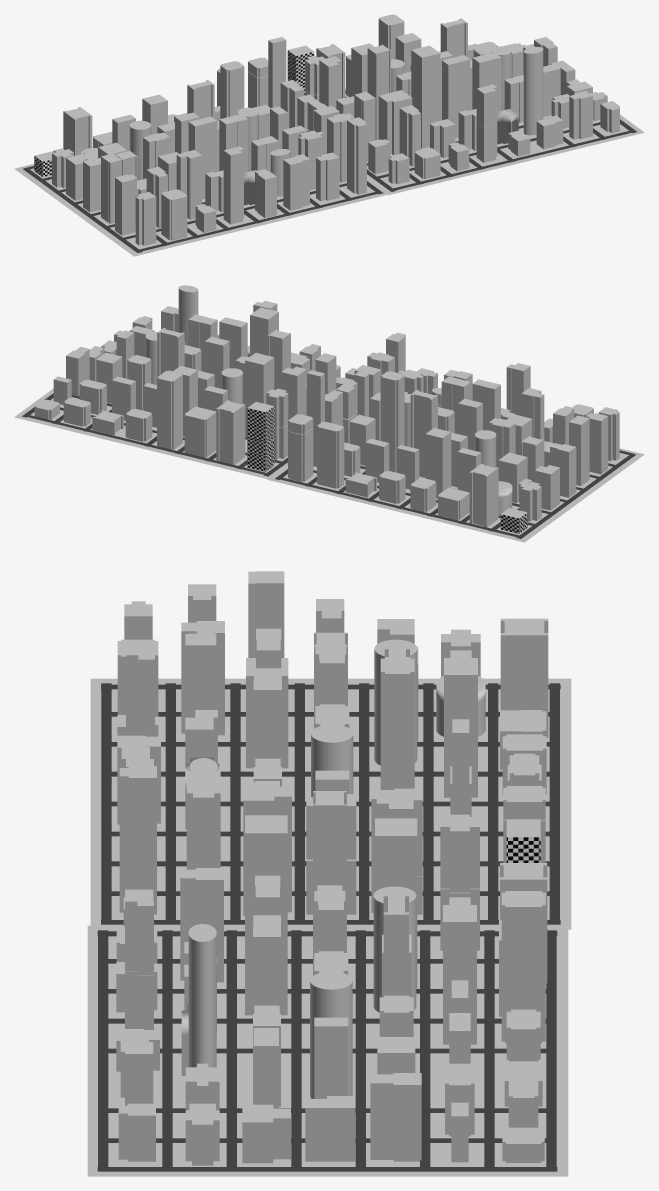
File: city.fbx
The picture shows the model from 3 angles, top to bottom: view 1: azimuth 30°, elevation 25°; view 2: azimuth 150°, elevation 25°; view 3: azimuth 270°, elevation 25°; orthographic projection. The views are drawn at different scales.
Visible parts, largest first — view 1: Plane.020, Plane.006, Plane.008, Plane.004, building_006.003, building_001.004, building_006, building_009.006, building_009.002, building_009.005, building_003.008, building_007.004 (+83 smaller); view 2: Plane.020, Plane.006, Plane.008, building_007, building_004, Plane.004, building_009.006, building_026.002, building_007.003, building_005.001, building_001.004, building_006.003 (+88 smaller); view 3: Plane.006, Plane.004, Plane.020, Plane.008, building_009.006, building_004.003, building_001.004, building_004, building_007.004, building_001.003, building_003.008, building_026.002 (+73 smaller).
Part boxes in pixels (x1,y1,x2,y2): Plane.020: (14,164,390,256); Plane.006: (345,44,644,195); Plane.008: (23,166,383,252); Plane.004: (345,90,636,191); building_006.003: (442,55,470,137); building_001.004: (411,45,440,103); building_006: (188,116,217,199); building_009.006: (220,61,244,116); building_009.002: (219,114,248,172); building_009.005: (472,52,501,111); building_003.008: (367,44,390,98); building_007.004: (399,105,420,166); Plane.020: (267,448,644,542); Plane.006: (14,388,287,478); Plane.008: (275,450,635,538); building_007: (410,390,437,477); building_004: (425,428,451,498); Plane.004: (22,393,287,476); building_009.006: (380,371,404,426); building_026.002: (245,353,274,402); building_007.003: (157,328,184,376); building_005.001: (550,443,576,497); building_001.004: (250,307,278,356); building_006.003: (219,317,247,368); Plane.006: (87,925,568,1176); Plane.004: (97,930,557,1171); Plane.020: (90,678,571,929); Plane.008: (101,683,560,924); building_009.006: (380,657,414,765); building_004.003: (443,905,476,1044); building_001.004: (245,815,287,925); building_004: (444,658,477,797); building_007.004: (180,868,223,982); building_001.003: (305,1096,355,1161); building_003.008: (313,791,346,894); building_026.002: (375,818,417,911).
Size of the model in its own units: 41666 by 7254 by 17098.
